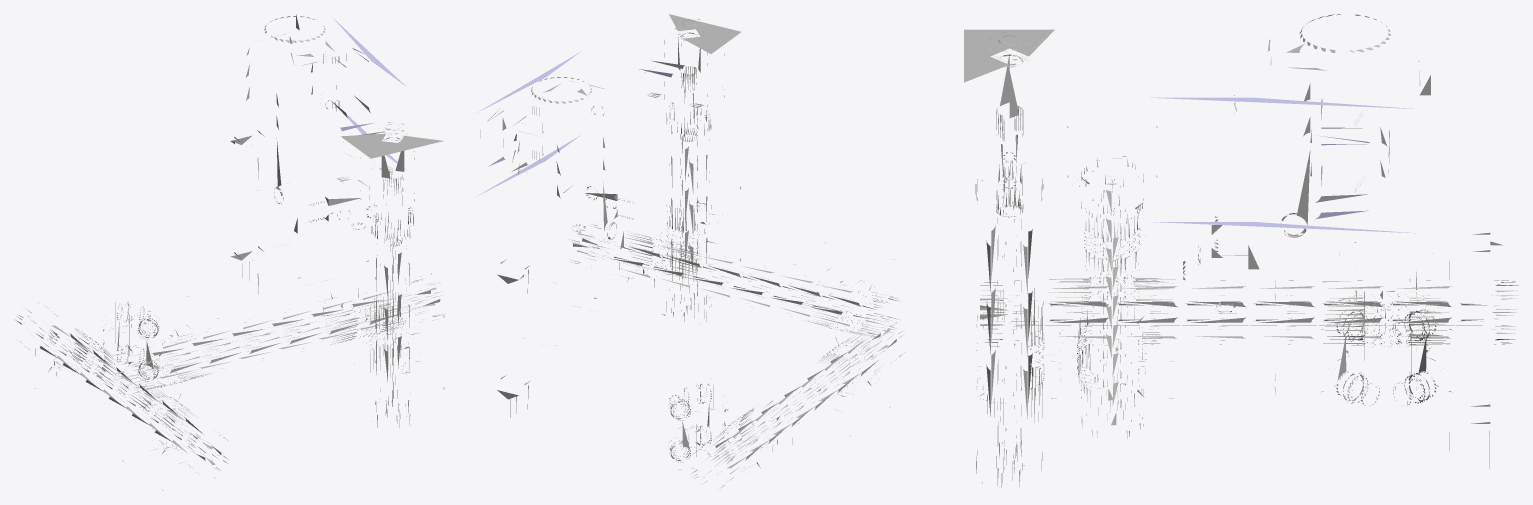
3 views of the same model, side by side, from view 1: azimuth 30°, elevation 25°; view 2: azimuth 150°, elevation 25°; view 3: azimuth 270°, elevation 25° (orthographic). The views are drawn at different scales.
Visible parts, largest first — view 1: F19721000063101014111_001_zb_ub_stift_11_fa (×2); view 2: F19721000063101014111_001_zb_ub_stift_11_fa (×2); view 3: F19721000063101014111_001_zb_ub_stift_11_fa (×2).
Part boxes in pixels (<box>): F19721000063101014111_001_zb_ub_stift_11_fa (×2): <box>15,14,444,490</box>; F19721000063101014111_001_zb_ub_stift_11_fa (×2): <box>475,14,904,487</box>; F19721000063101014111_001_zb_ub_stift_11_fa (×2): <box>964,14,1518,487</box>.
Size of the model in its own units: 239 by 256 by 240.
